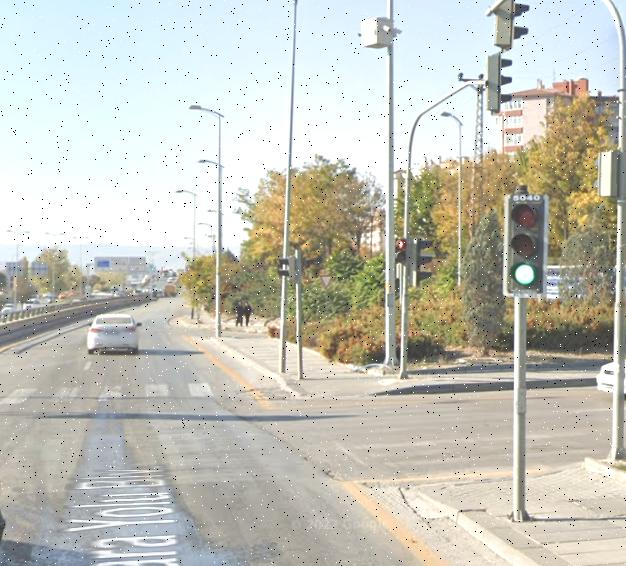greenlight: (511, 204, 538, 286)
